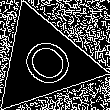O_SE: (9, 29, 79, 94)
